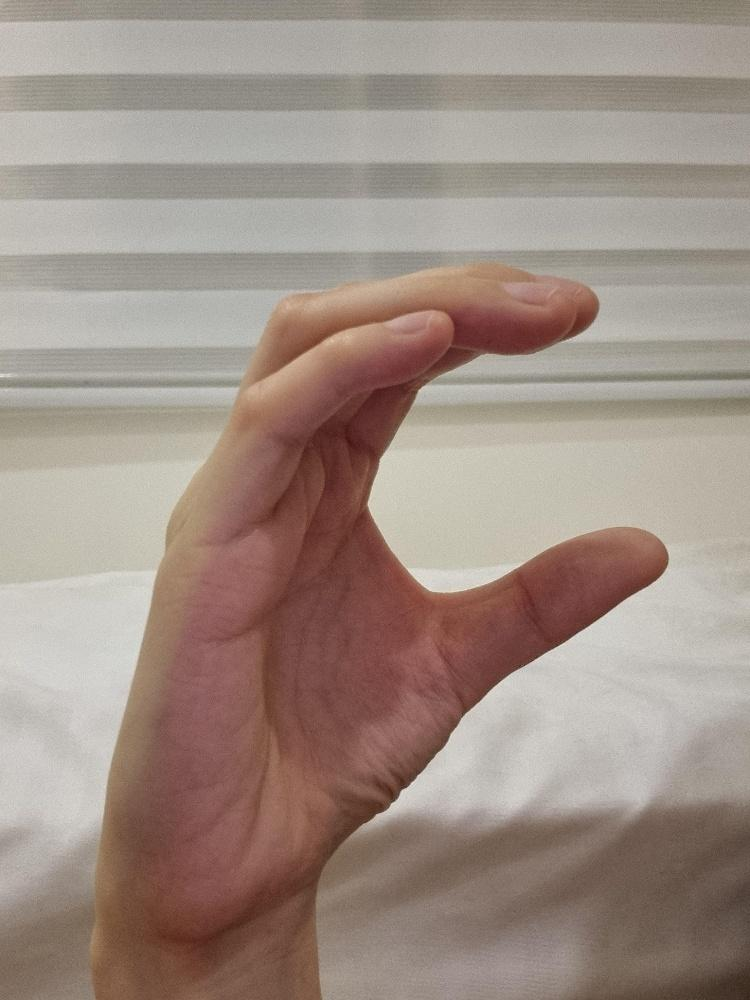c: (118, 257, 671, 941)
